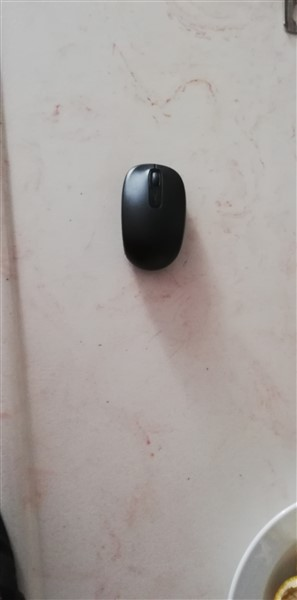mouse: (118, 161, 189, 277)
